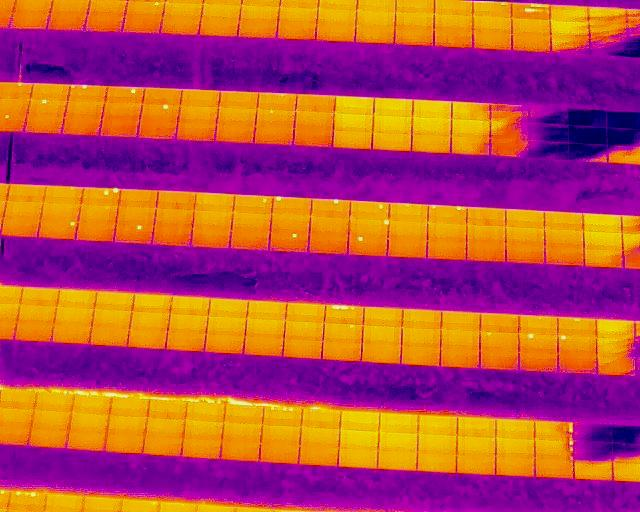Cell: (269, 231, 308, 251), (348, 235, 387, 255), (115, 223, 152, 243), (38, 221, 76, 240), (273, 197, 312, 215), (350, 201, 389, 219), (389, 203, 427, 221), (558, 317, 596, 335), (234, 195, 273, 212), (324, 324, 363, 341), (311, 199, 349, 216), (480, 332, 518, 349), (256, 110, 295, 126), (519, 333, 557, 349), (558, 336, 596, 352), (140, 105, 178, 121), (29, 99, 66, 115), (107, 86, 143, 102), (349, 220, 389, 234), (124, 1, 164, 15), (473, 2, 511, 16)
Cell-Multi: (8, 491, 46, 511), (428, 205, 466, 224), (263, 407, 301, 425), (535, 422, 573, 440), (81, 188, 119, 205), (535, 440, 573, 457), (68, 85, 106, 102), (512, 3, 549, 19)
No-Anomaly: (14, 320, 53, 342), (558, 352, 596, 374), (428, 238, 466, 260), (506, 242, 544, 264), (440, 348, 479, 369), (230, 229, 269, 250), (468, 239, 505, 261), (209, 299, 249, 319), (519, 351, 557, 372), (480, 349, 518, 370), (596, 319, 634, 340), (167, 331, 206, 351), (260, 442, 299, 462), (299, 446, 338, 466), (496, 456, 535, 476), (362, 344, 401, 364), (388, 237, 427, 257), (161, 15, 200, 35), (247, 301, 286, 321), (52, 323, 91, 343), (128, 329, 167, 349), (6, 184, 47, 203), (506, 209, 544, 229), (144, 435, 182, 455), (182, 438, 222, 457), (338, 449, 378, 468), (512, 31, 550, 51), (0, 218, 40, 237), (309, 234, 347, 254), (95, 291, 135, 310), (283, 339, 322, 358), (411, 134, 450, 153), (451, 136, 490, 155), (583, 213, 622, 232), (401, 346, 440, 365), (434, 29, 473, 48), (300, 428, 339, 447), (106, 433, 145, 452), (417, 452, 456, 471), (152, 226, 191, 245), (192, 227, 231, 246), (545, 246, 584, 265), (58, 289, 97, 308), (133, 294, 172, 313), (171, 296, 210, 315), (364, 308, 403, 327), (356, 25, 395, 44), (574, 460, 613, 479), (206, 317, 247, 335), (545, 211, 583, 230), (10, 11, 48, 30), (67, 431, 105, 450), (221, 441, 259, 460), (535, 458, 573, 477), (322, 340, 360, 359), (395, 26, 433, 45), (374, 98, 412, 117), (123, 14, 161, 33), (403, 310, 441, 329), (363, 326, 401, 345), (402, 328, 440, 347), (452, 101, 490, 120), (244, 337, 284, 355), (204, 334, 244, 352), (44, 185, 84, 203), (41, 203, 81, 221), (84, 13, 124, 31), (200, 18, 240, 36), (245, 319, 285, 337), (25, 114, 62, 133), (63, 115, 100, 134), (101, 118, 138, 137), (255, 126, 294, 144), (294, 128, 333, 146), (333, 131, 372, 149), (372, 133, 411, 151), (195, 193, 234, 211), (48, 12, 87, 30), (340, 412, 379, 430), (108, 415, 147, 433), (418, 417, 457, 435), (496, 420, 535, 438), (339, 431, 378, 449), (378, 451, 417, 469), (456, 455, 495, 473), (76, 223, 115, 241), (505, 227, 544, 245), (238, 20, 277, 38), (90, 327, 129, 345), (441, 330, 480, 348), (413, 100, 452, 118), (277, 20, 316, 38), (335, 96, 374, 114), (302, 410, 340, 428), (178, 123, 216, 141), (157, 191, 195, 209), (79, 205, 117, 223), (467, 207, 505, 225), (155, 209, 193, 227), (310, 217, 348, 235), (473, 31, 511, 49), (32, 411, 70, 429), (70, 413, 108, 431), (379, 414, 417, 432), (468, 224, 506, 242), (545, 228, 583, 246), (21, 288, 59, 306), (286, 304, 324, 322), (442, 312, 480, 330), (271, 214, 311, 231), (184, 421, 224, 438), (17, 305, 57, 322), (284, 322, 324, 339), (73, 397, 110, 415), (457, 419, 494, 437), (29, 428, 66, 446), (585, 249, 622, 267), (334, 114, 373, 131), (193, 211, 232, 228), (186, 404, 225, 421), (224, 406, 263, 423), (222, 423, 261, 440), (261, 426, 300, 443), (378, 433, 417, 450), (110, 399, 149, 416), (54, 307, 93, 324), (92, 310, 131, 327), (316, 24, 355, 41), (130, 312, 169, 329), (45, 494, 84, 511), (457, 437, 495, 454), (295, 112, 333, 129), (373, 116, 411, 133), (139, 121, 177, 138), (216, 125, 254, 142), (233, 212, 271, 229), (145, 419, 183, 436), (148, 402, 186, 419), (297, 95, 335, 112), (390, 221, 428, 238), (480, 314, 518, 331), (519, 316, 557, 333), (220, 91, 258, 108), (239, 5, 279, 21), (3, 201, 43, 217), (168, 315, 208, 331), (120, 189, 157, 206), (36, 394, 73, 411), (584, 232, 621, 249), (181, 90, 218, 107), (451, 120, 490, 136), (278, 6, 317, 22), (117, 206, 156, 222), (418, 435, 457, 451), (217, 109, 255, 125), (412, 118, 450, 134), (550, 5, 588, 21), (317, 8, 355, 24), (496, 440, 534, 456), (428, 224, 466, 240), (31, 83, 69, 99), (258, 93, 296, 109), (180, 107, 217, 123), (144, 88, 181, 104), (434, 14, 473, 29), (162, 3, 203, 17), (357, 10, 395, 25), (395, 12, 433, 27), (473, 16, 511, 31), (512, 18, 550, 33), (434, 0, 472, 15), (104, 103, 141, 118), (66, 101, 103, 116), (203, 4, 239, 19), (551, 21, 589, 35)
Shadowing: (528, 122, 570, 144), (527, 141, 569, 161), (569, 109, 608, 130), (597, 355, 636, 376), (529, 106, 569, 126), (569, 126, 609, 146), (574, 423, 612, 442), (569, 144, 608, 162), (490, 121, 529, 139), (490, 139, 529, 157), (574, 442, 613, 460), (596, 337, 634, 355), (490, 103, 528, 121), (551, 35, 589, 52), (588, 7, 626, 22), (589, 22, 627, 36)
Unclassified: (324, 306, 363, 324)
